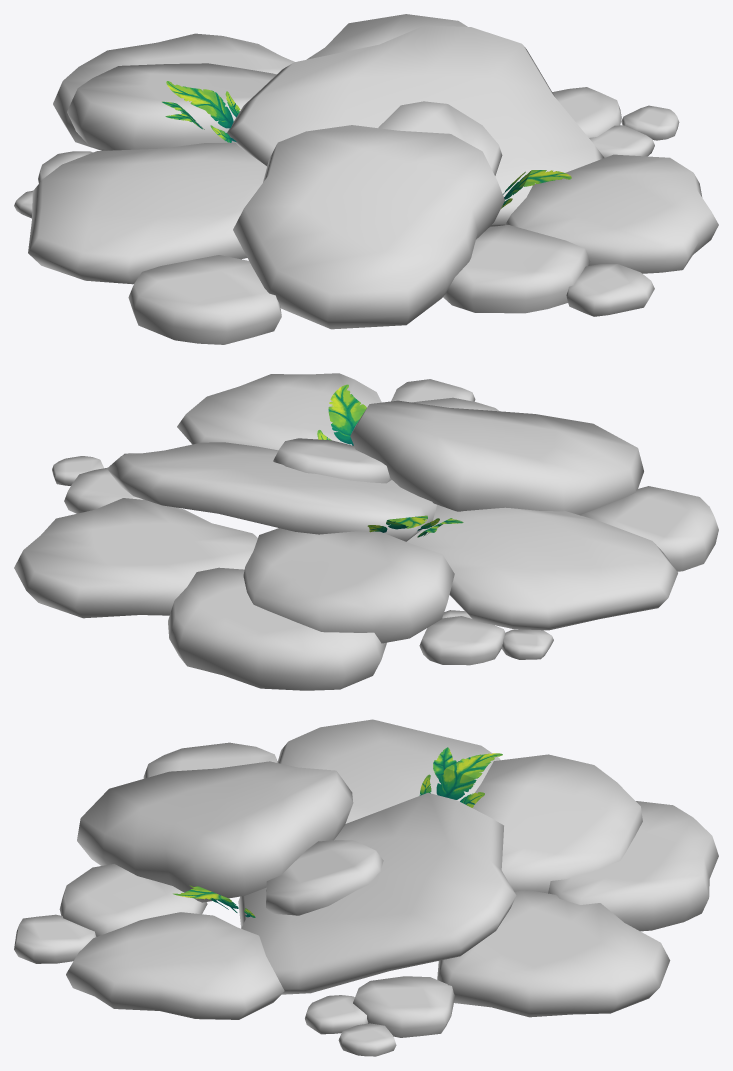
File: SM_FlatStonesRubble.fbx
3 renders of one model, top to bottom at view 1: azimuth 30°, elevation 25°; view 2: azimuth 150°, elevation 25°; view 3: azimuth 270°, elevation 25°, orthographic. The views are drawn at different scales.
Visible parts, largest first — view 1: FlatStonesRubbleMesh; view 2: FlatStonesRubbleMesh; view 3: FlatStonesRubbleMesh.
Boxes of the visible parts, x1,y1,x2,y2 form: FlatStonesRubbleMesh: (14,14,718,344); FlatStonesRubbleMesh: (14,373,718,690); FlatStonesRubbleMesh: (14,719,718,1056).
Size of the model in its own units: 419 by 69.09 by 409.
